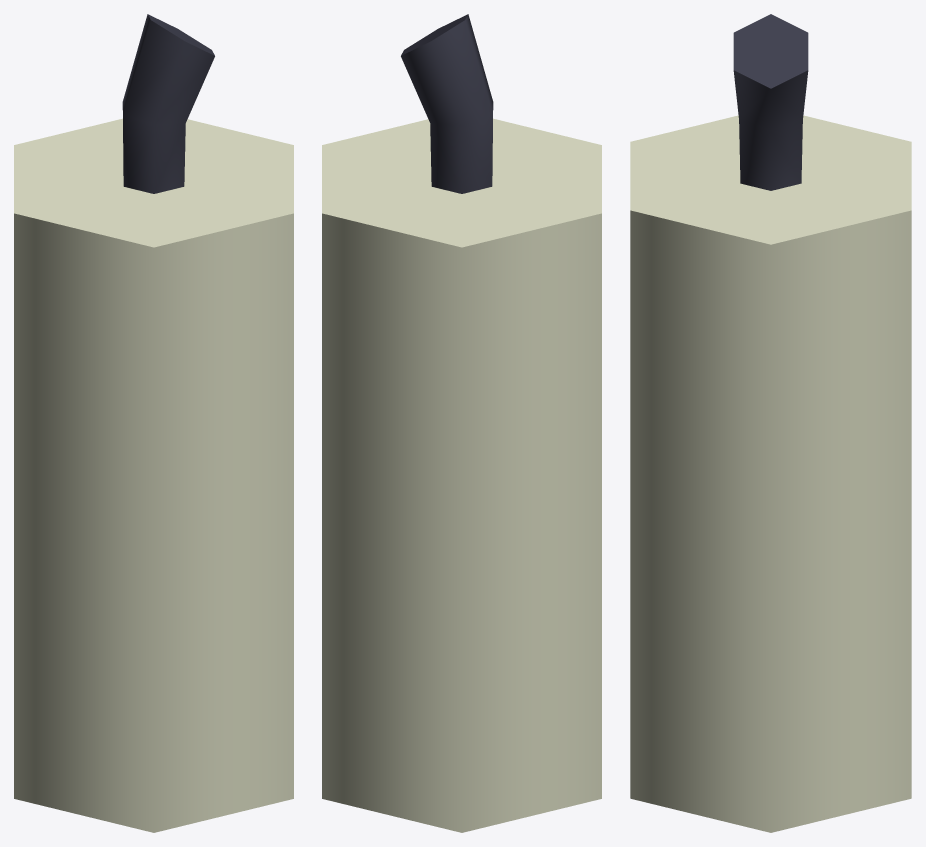
File: Candle_01.fbx
The picture shows the model from 3 angles, left to right: view 1: azimuth 30°, elevation 25°; view 2: azimuth 150°, elevation 25°; view 3: azimuth 270°, elevation 25°; orthographic projection.
Parts seen in each view (by area): view 1: Candle; view 2: Candle; view 3: Candle.
Boxes of the visible parts, <box> form: Candle: <box>14,14,293,832</box>; Candle: <box>322,14,601,832</box>; Candle: <box>630,14,911,832</box>.
Size of the model in its own units: 0.1026 by 0.0888 by 0.261.
